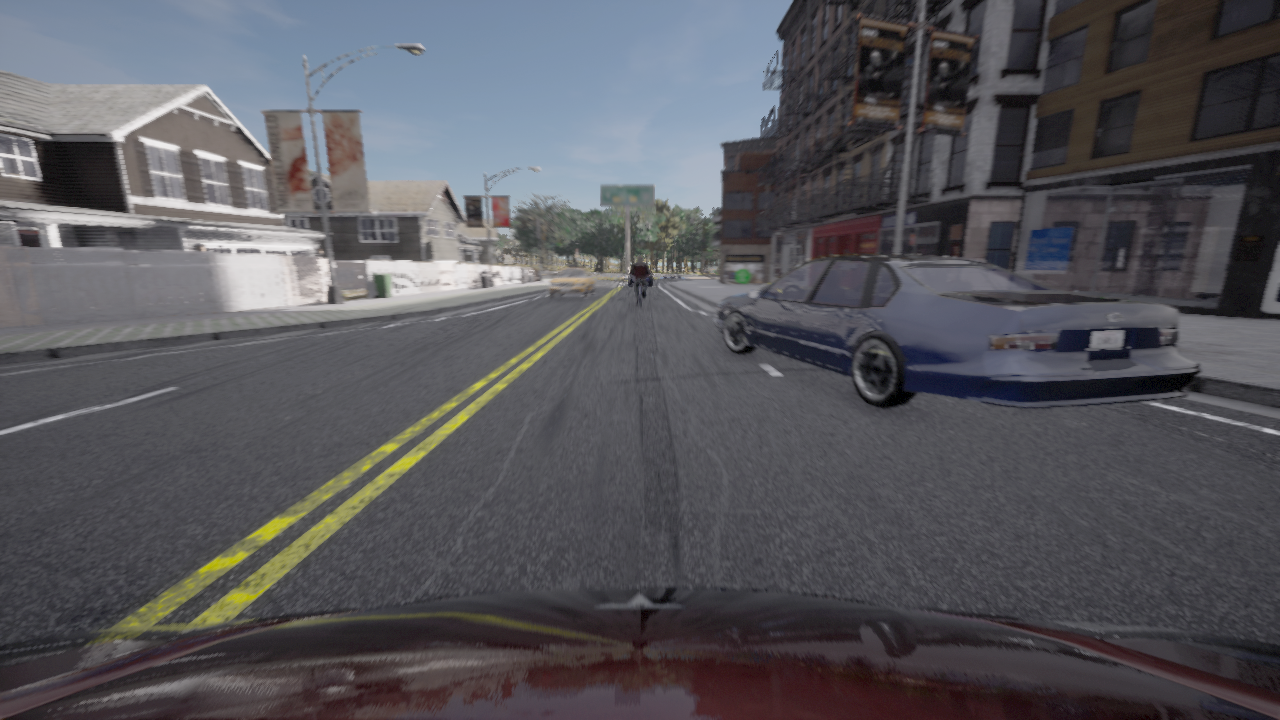cyclist: (0, 588, 1279, 719), (712, 254, 1200, 409), (548, 265, 594, 298), (628, 273, 651, 286), (663, 272, 681, 280), (636, 284, 641, 305)
